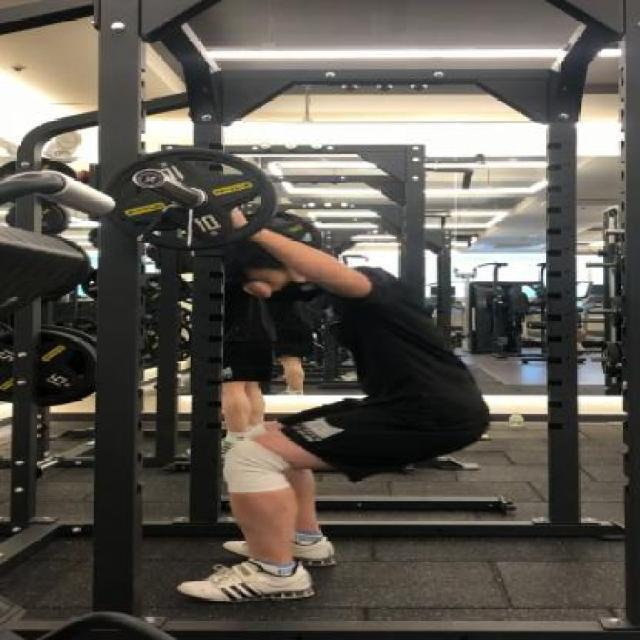barbell: (87, 137, 296, 262)
